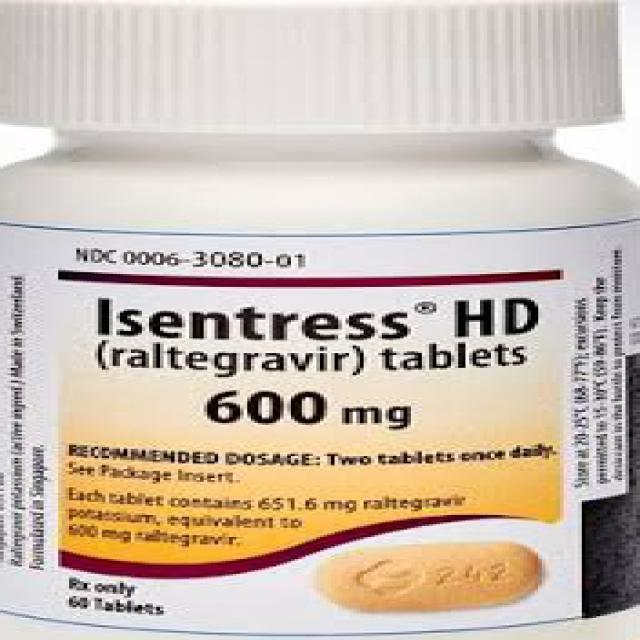drug-name: (90, 296, 410, 342)
